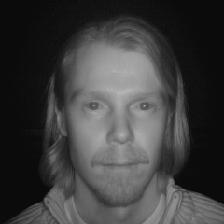normal: (40, 11, 193, 223)
